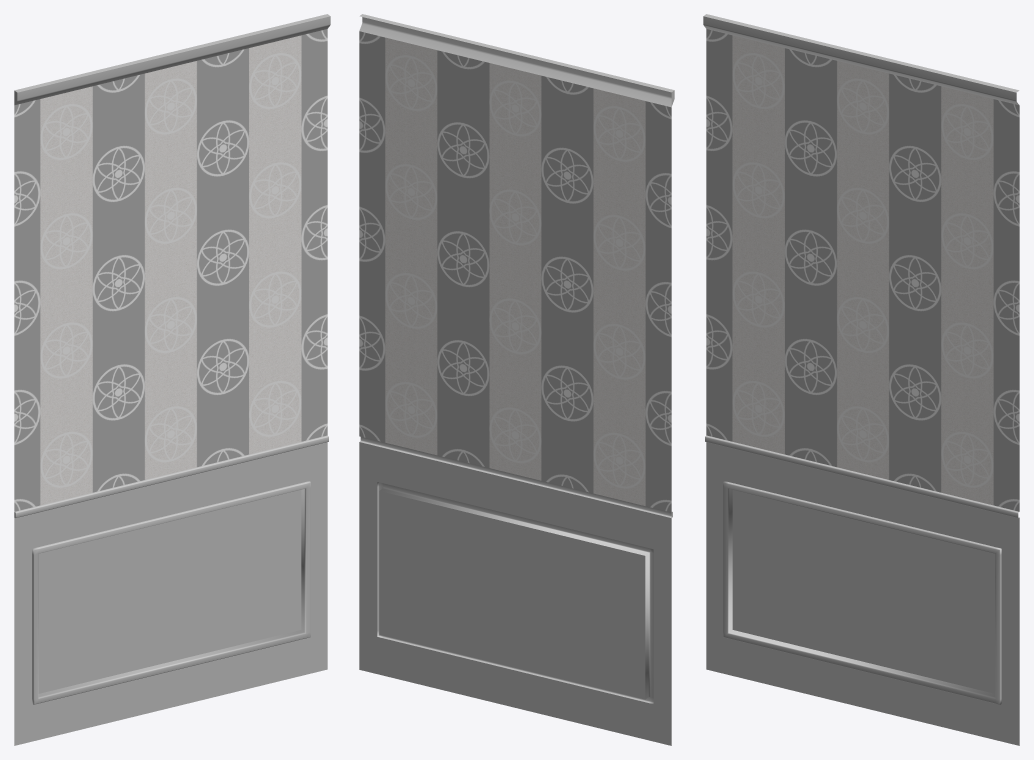
File: WallNiche03_175cm.FBX
The picture shows the model from 3 angles, left to right: view 1: azimuth 30°, elevation 25°; view 2: azimuth 150°, elevation 25°; view 3: azimuth 330°, elevation 25°; orthographic projection.
Parts seen in each view (by area): view 1: WallNiche03_175cm; view 2: WallNiche03_175cm; view 3: WallNiche03_175cm.
Part boxes in pixels (bbox=[...]): WallNiche03_175cm: bbox=[14, 14, 330, 745]; WallNiche03_175cm: bbox=[359, 14, 674, 745]; WallNiche03_175cm: bbox=[703, 14, 1019, 745].
Bounding box in the file's own units: 1750 × 3500 × 60.
